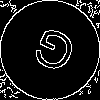G: (25, 25, 80, 83)
